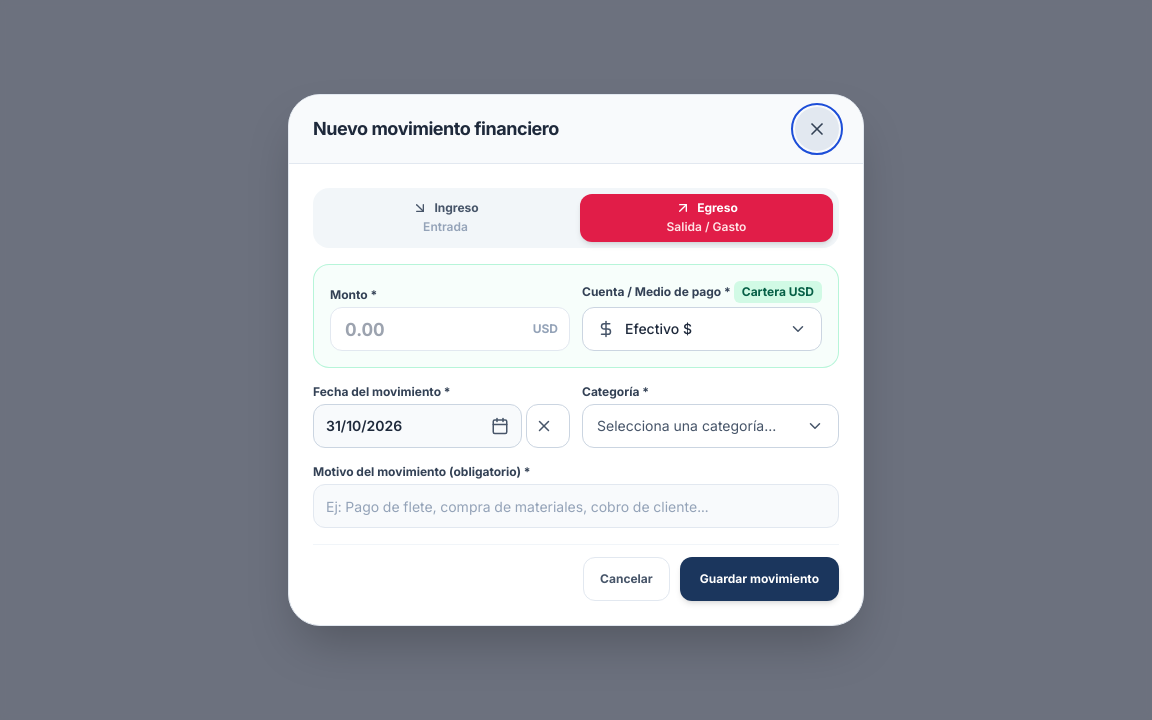
Test: MovimientoForm › muestra una sola opción de Bolívares digitales y conserva cuenta y comprobante
Step 1. Click the dropdown labelled "Efectivo $" → [702, 329], box [582,307,822,351]
(page scrolled)
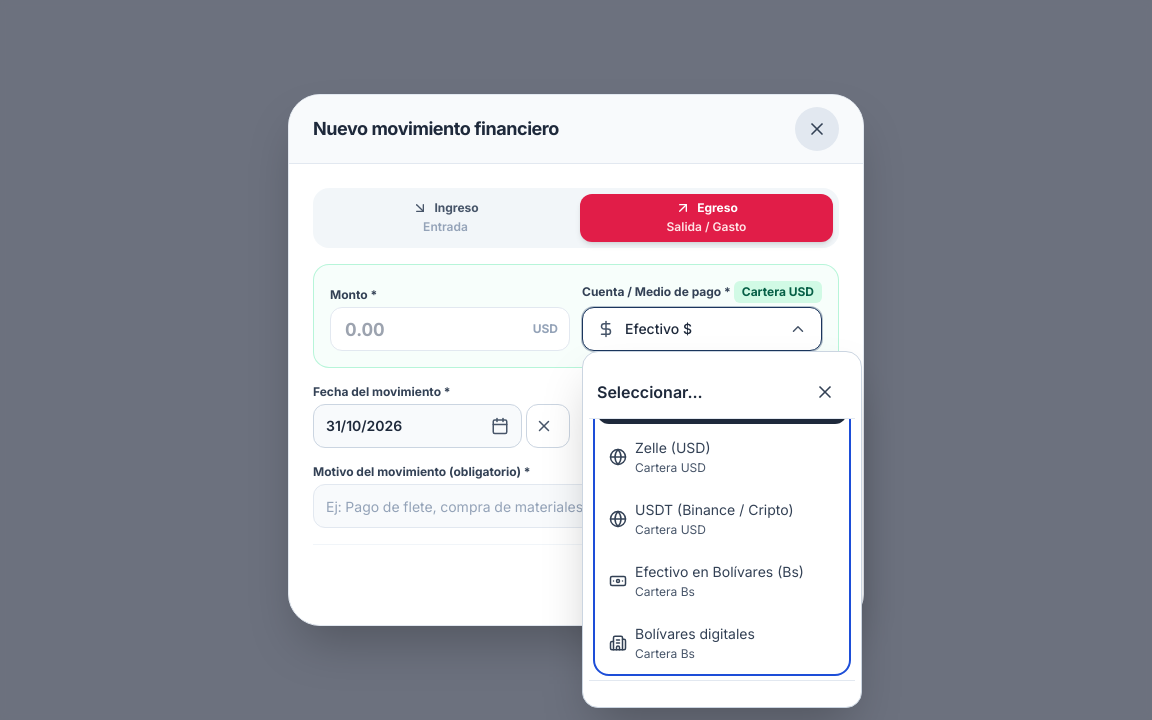
Now the number of options "Bolívares digitales Cartera Bs" is 1
Step 2. Click the option "Bolívares digitales Cartera Bs" → [722, 643], box [597,614,847,672]
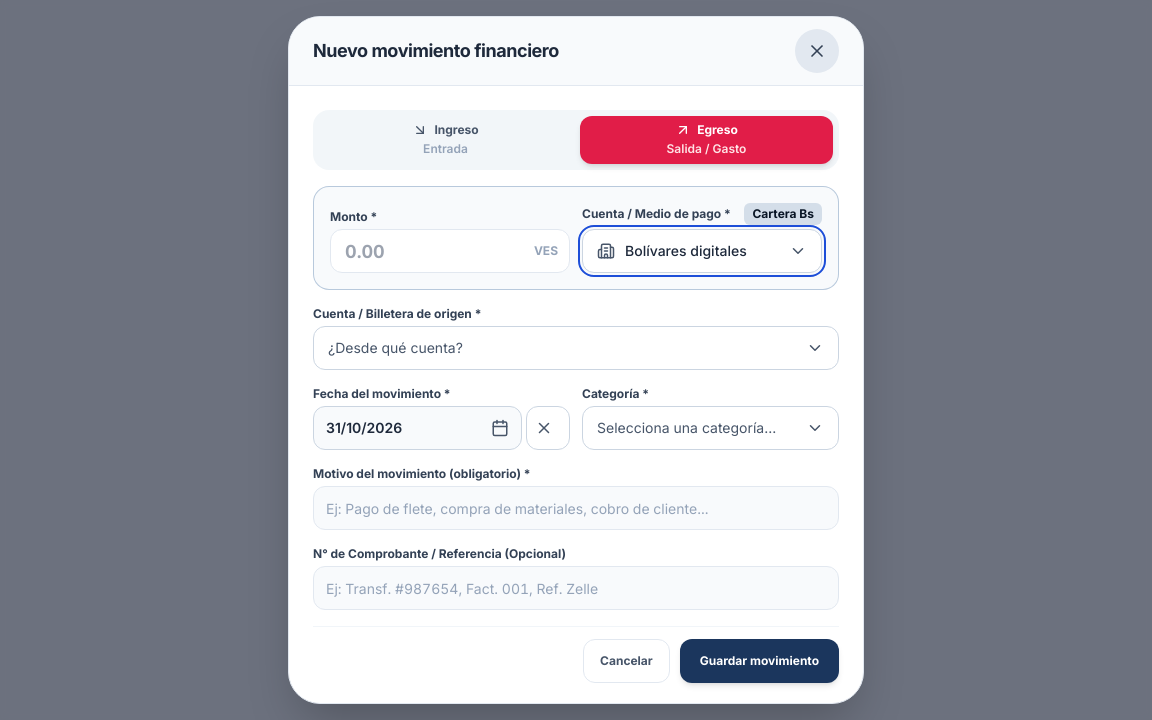
Now the field labelled "N° de Comprobante / Referencia (Opcional)" is shown, box [313,566,839,610]
Step 3. Click the dropdown labelled "¿Desde qué cuenta?" → [395, 348], box [313,326,839,370]
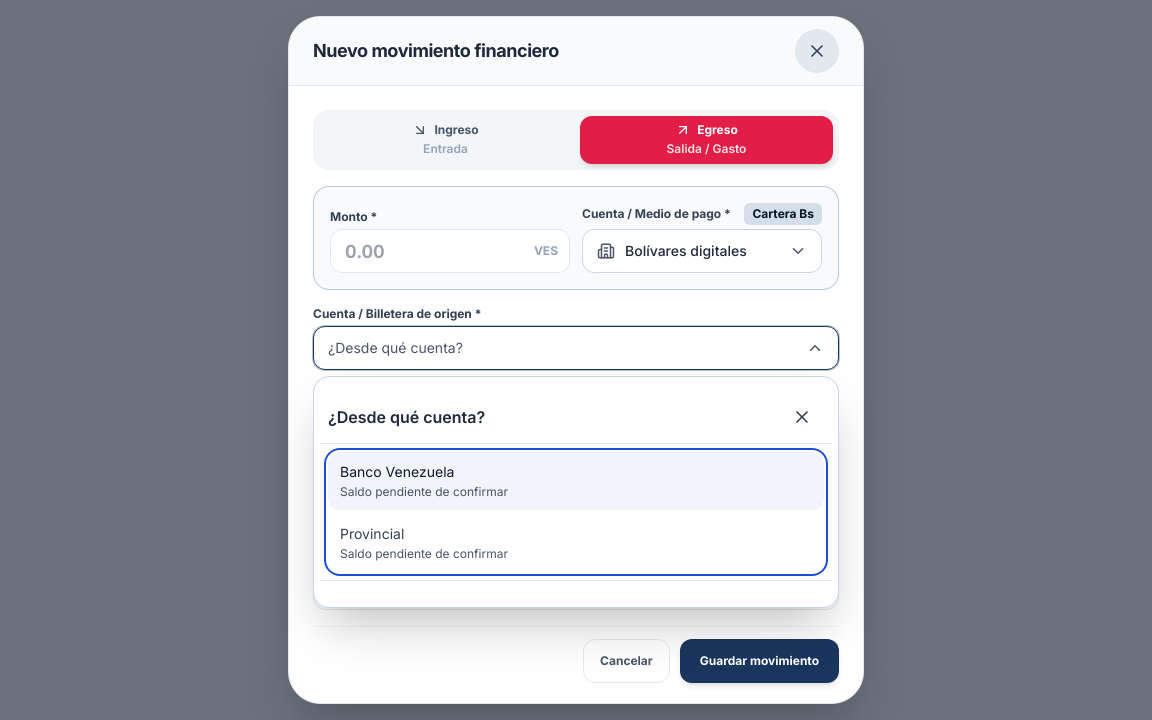
Now the option "Banco Venezuela Saldo pendiente de confirmar" is shown, box [328,452,824,510]
Now the option "Provincial Saldo pendiente de confirmar" is shown, box [328,514,824,572]
